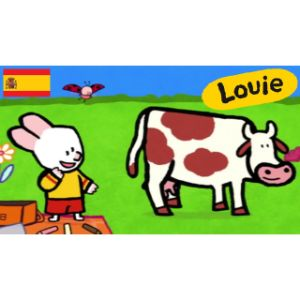cow: (127, 106, 297, 217)
